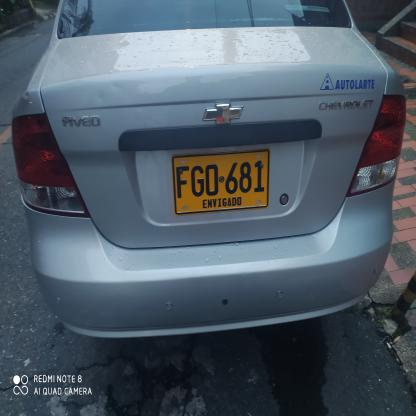placa: (164, 144, 274, 218)
